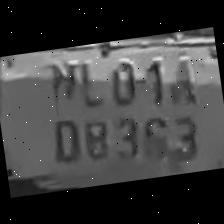1: (136, 53, 170, 106)
3: (164, 106, 202, 163), (106, 109, 141, 162)
5: (68, 54, 105, 110)
6: (100, 52, 140, 106)
8: (76, 110, 113, 164)
D: (44, 109, 84, 166)
